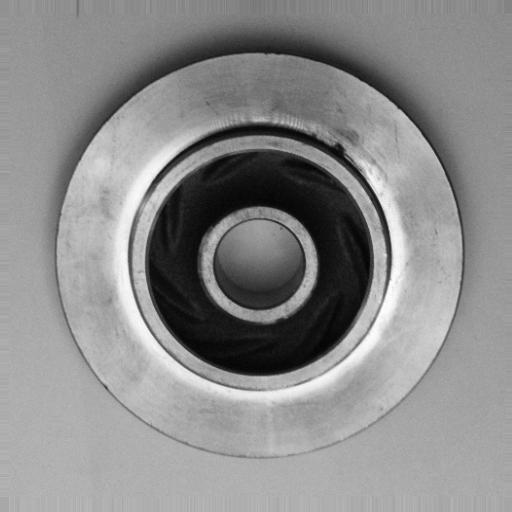crack: (319, 136, 355, 162)
unpolished_casting: (52, 51, 465, 463)
